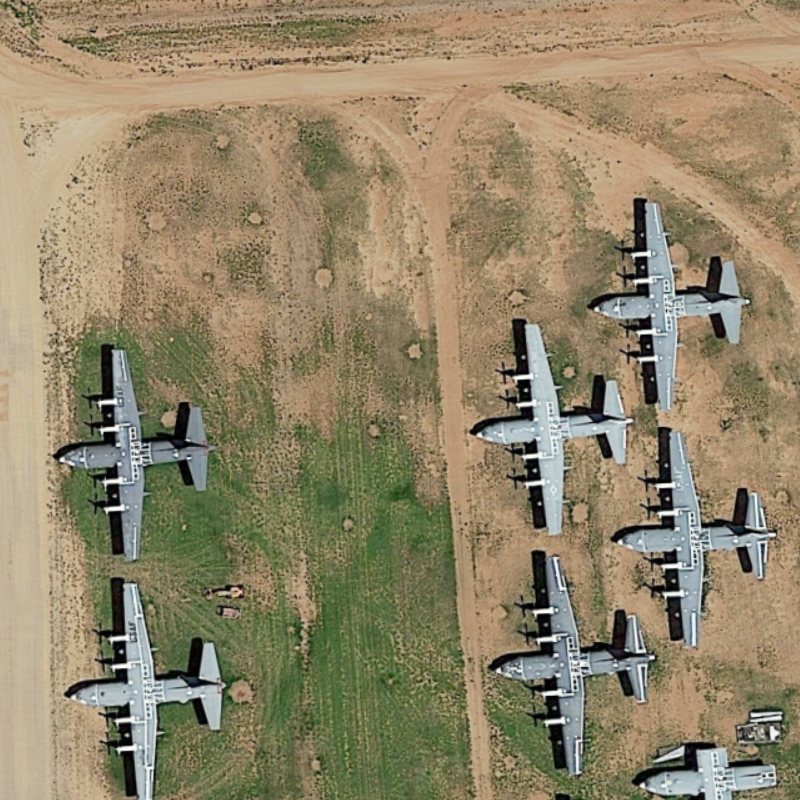A2: (481, 548, 661, 785), (466, 308, 637, 539), (610, 426, 782, 655), (588, 186, 756, 420), (60, 572, 230, 800), (49, 344, 221, 566)
